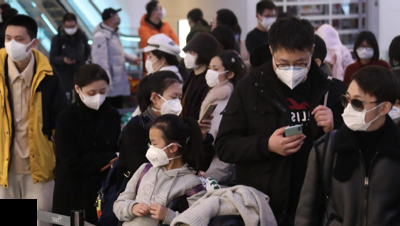with_mask: (340, 90, 371, 133), (272, 57, 308, 88), (2, 32, 30, 63), (145, 138, 169, 167), (158, 91, 182, 117), (80, 87, 107, 110), (204, 64, 225, 86), (355, 42, 374, 61), (260, 12, 277, 31), (143, 52, 157, 74), (182, 50, 197, 70), (154, 5, 165, 21), (62, 25, 77, 35), (208, 18, 216, 32)
